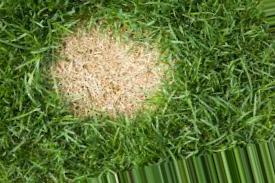patch: (57, 61, 149, 88), (80, 31, 140, 57), (72, 101, 137, 116)
